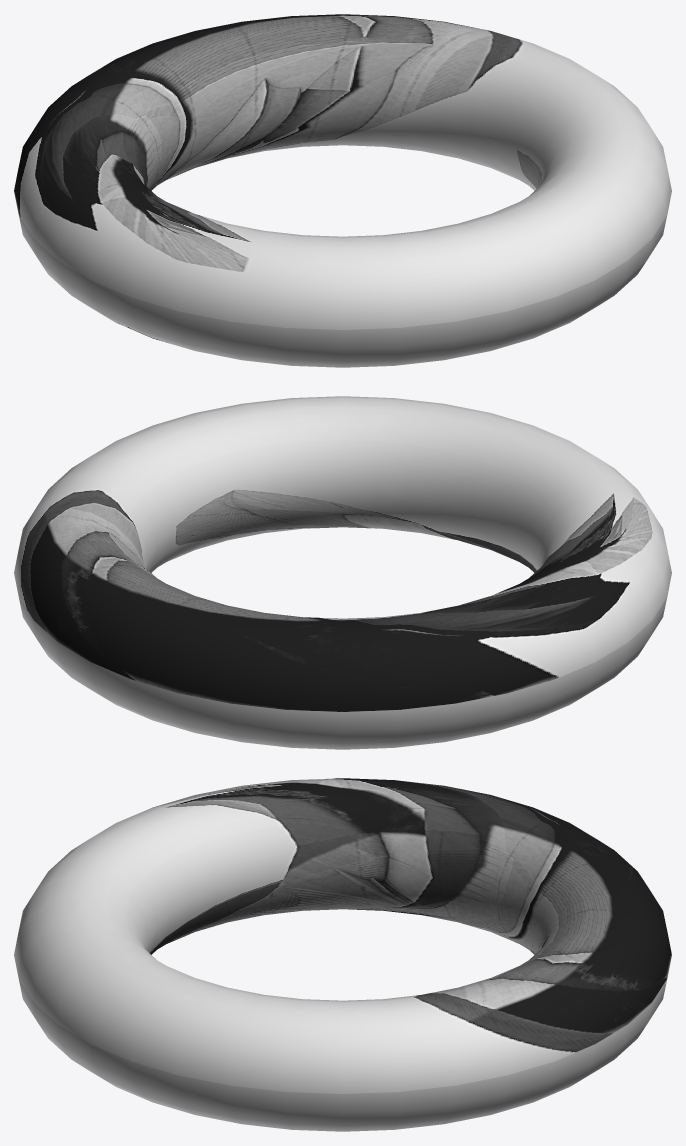
File: donut.dae
The picture shows the model from 3 angles, top to bottom: view 1: azimuth 30°, elevation 25°; view 2: azimuth 150°, elevation 25°; view 3: azimuth 270°, elevation 25°; orthographic projection.
Parts seen in each view (by area): view 1: donutMesh; view 2: donutMesh; view 3: donutMesh.
Boxes of the visible parts, x1,y1,x2,y2 form: donutMesh: [14, 14, 671, 367]; donutMesh: [14, 396, 671, 749]; donutMesh: [14, 778, 671, 1131].
Size of the model in its own units: 100 by 19.7 by 100.
Materials: 1 (1 with a texture image).
